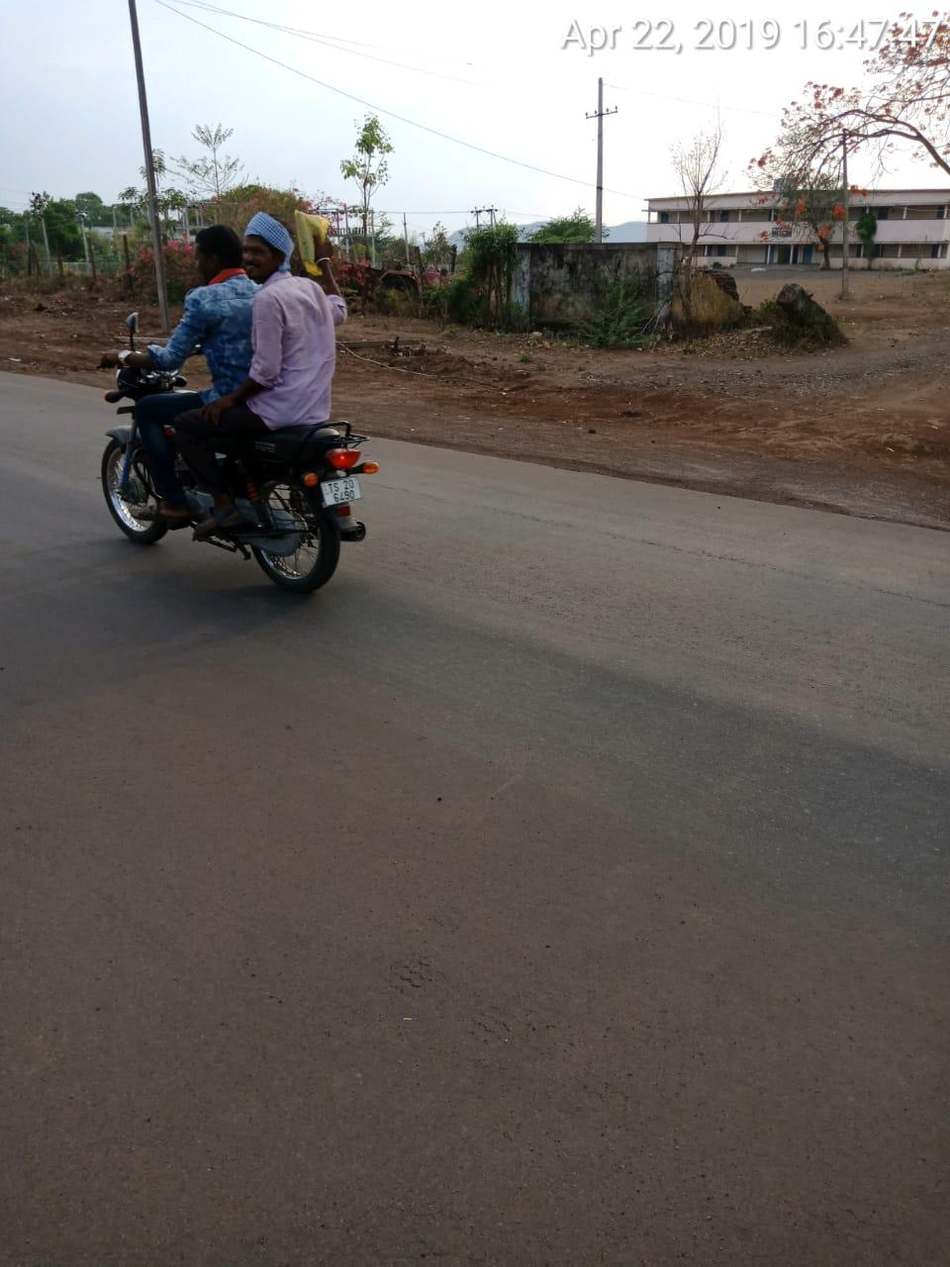plate: (308, 472, 374, 514)
